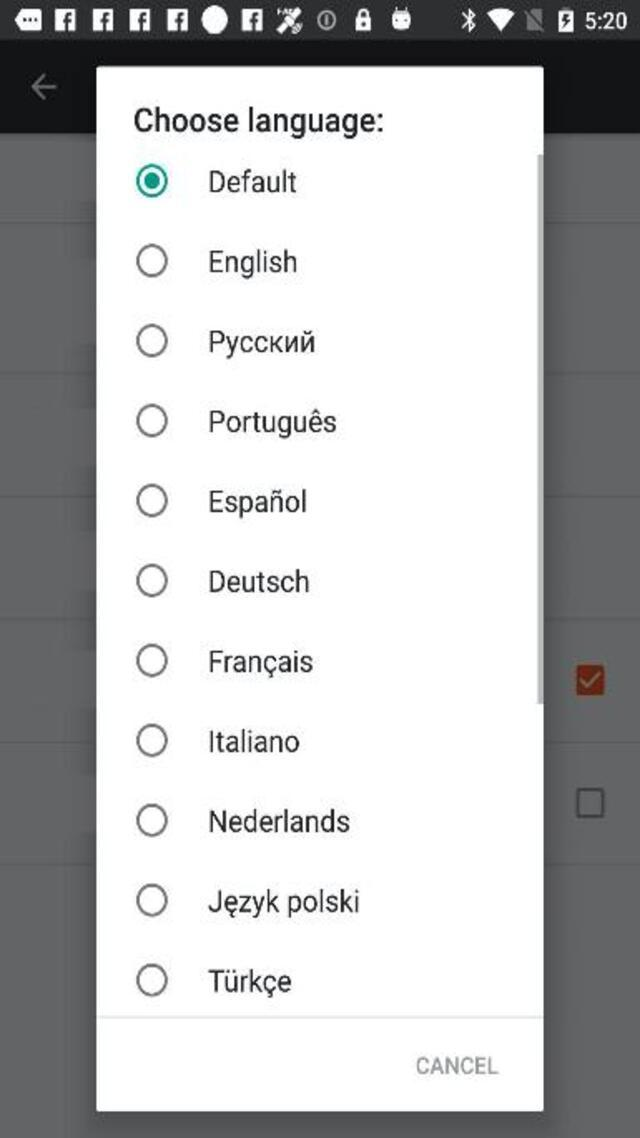CheckedTextView: (136, 882, 359, 918), (136, 802, 349, 836), (137, 404, 336, 438), (136, 324, 314, 359), (136, 562, 310, 596), (136, 643, 312, 676), (136, 482, 306, 516), (136, 244, 296, 280), (136, 722, 300, 756), (136, 162, 296, 196), (137, 962, 292, 996)
Icon: (29, 74, 56, 100)
Text: (136, 106, 384, 138), (209, 889, 360, 918), (210, 409, 336, 437), (210, 808, 350, 831), (211, 331, 314, 359), (210, 649, 312, 677), (210, 489, 306, 517), (210, 248, 296, 278), (208, 968, 291, 998), (210, 568, 308, 591), (210, 728, 298, 751), (210, 170, 296, 193), (416, 1055, 498, 1075)
